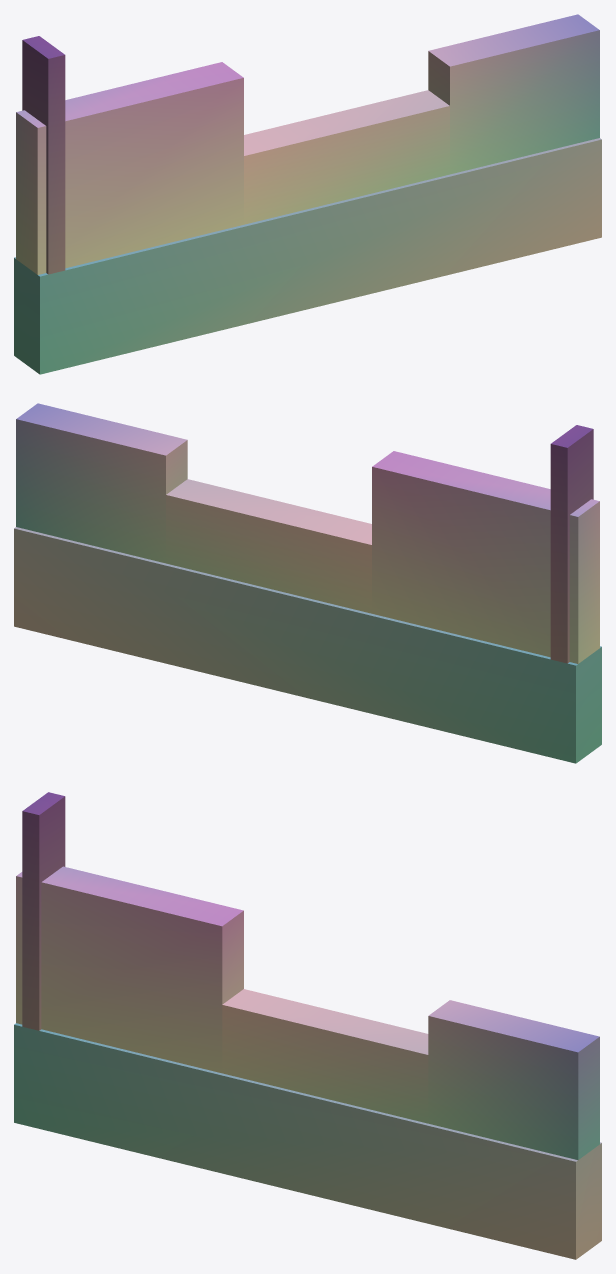
The model's file is burg_wall_3m_ruin_a.glb.
3 views of the same model, one above another, from view 1: azimuth 30°, elevation 25°; view 2: azimuth 150°, elevation 25°; view 3: azimuth 330°, elevation 25° (orthographic).
Visible parts, largest first — view 1: plaster, base_course, timbers; view 2: plaster, base_course, timbers; view 3: plaster, base_course, timbers.
Part boxes in pixels (x1,y1,x2,y2): plaster: (16, 14, 599, 274); base_course: (14, 138, 601, 374); timbers: (22, 36, 65, 274); plaster: (16, 403, 599, 663); base_course: (14, 527, 601, 763); timbers: (550, 425, 593, 663); plaster: (16, 866, 599, 1159); base_course: (14, 1023, 601, 1259); timbers: (22, 792, 65, 1030).
Size of the model in its own units: 3 by 1.6 by 0.24.
